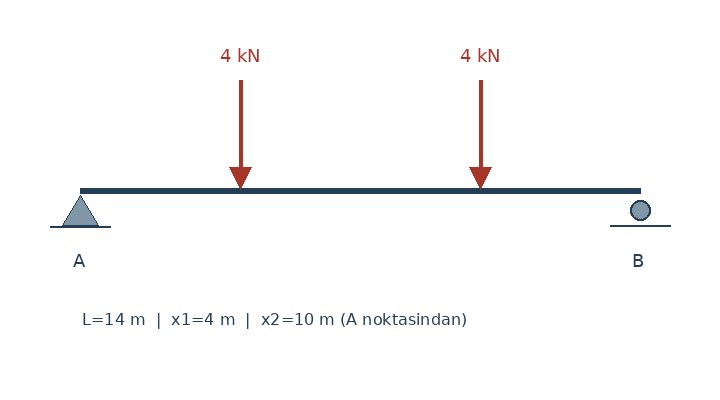pin_support: (61, 190, 99, 226)
point_load: (226, 76, 254, 190), (466, 76, 494, 190)
roller_support: (625, 196, 655, 227)
